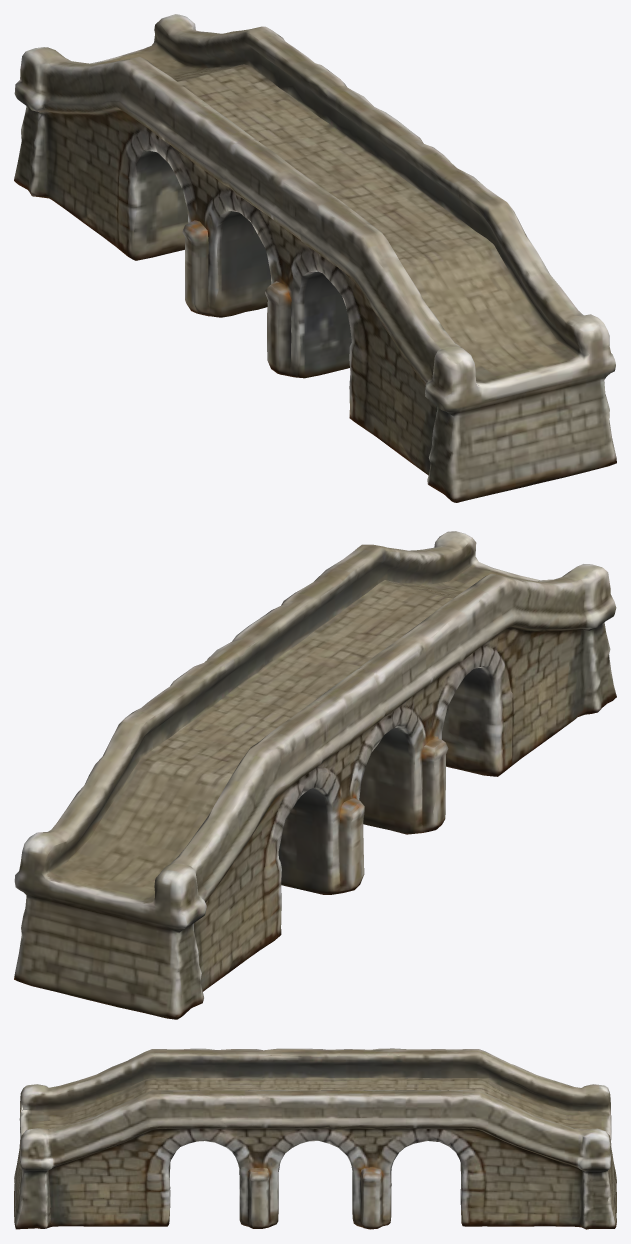
File: bridge_b.glb
The picture shows the model from 3 angles, top to bottom: view 1: azimuth 30°, elevation 25°; view 2: azimuth 150°, elevation 25°; view 3: azimuth 270°, elevation 25°; orthographic projection. The views are drawn at different scales.
Parts seen in each view (by area): view 1: world; view 2: world; view 3: world.
Part boxes in pixels (x1,y1,x2,y2): world: (14, 14, 616, 502); world: (14, 531, 616, 1019); world: (14, 1048, 616, 1229).
Size of the model in its own units: 0.2292 by 0.2428 by 1.
1 material, 1 textured.
